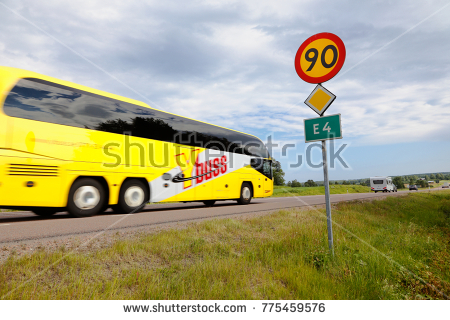Speed_limit_90km: (293, 33, 348, 82)
